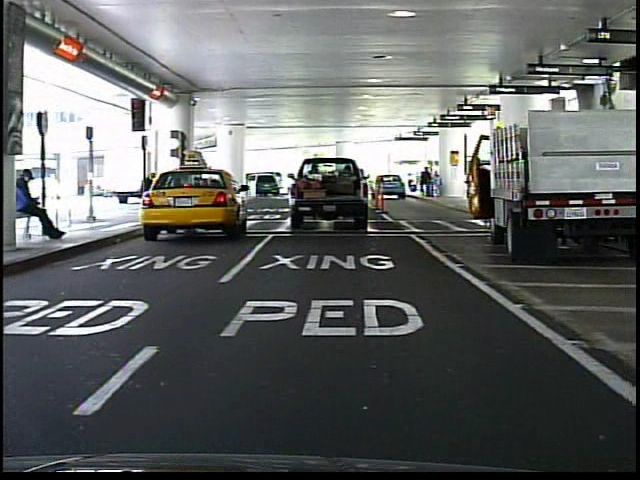person: (20, 165, 72, 245), (138, 166, 160, 220)
